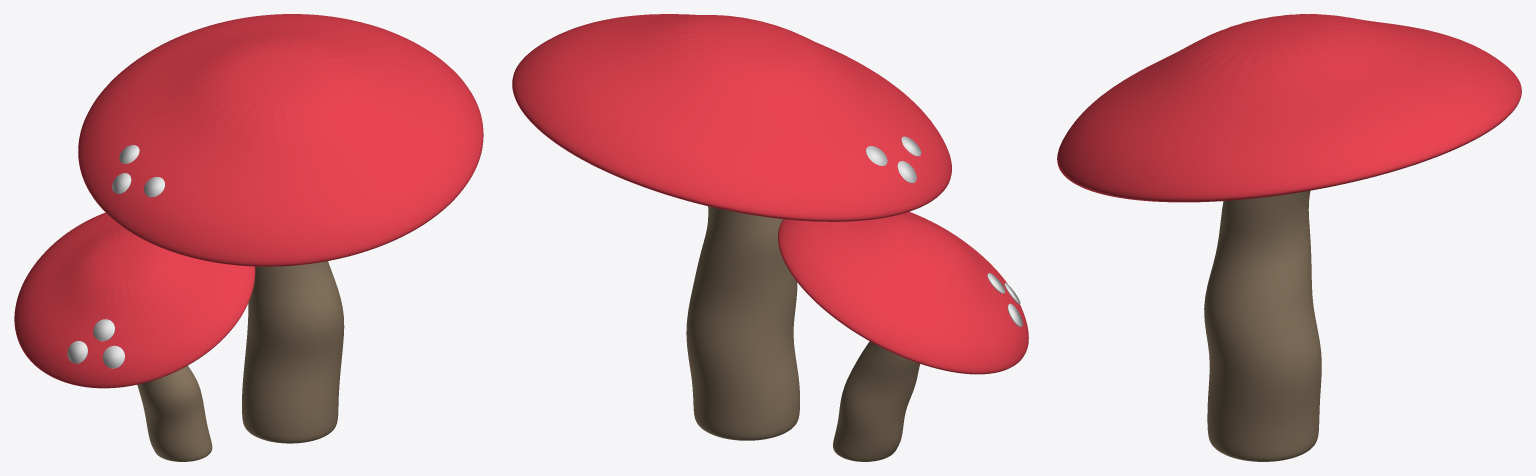
File: mushroom_2.glb
3 views of the same model, side by side, from view 1: azimuth 30°, elevation 25°; view 2: azimuth 150°, elevation 25°; view 3: azimuth 270°, elevation 25° (orthographic). The views are drawn at different scales.
Parts seen in each view (by area): view 1: Mushroom; view 2: Mushroom; view 3: Mushroom.
Boxes of the visible parts, x1,y1,x2,y2 form: Mushroom: (14,14,483,461); Mushroom: (512,14,1028,461); Mushroom: (1057,14,1521,461).
Bounding box in the file's own units: 1.07 × 0.8665 × 0.8796.
